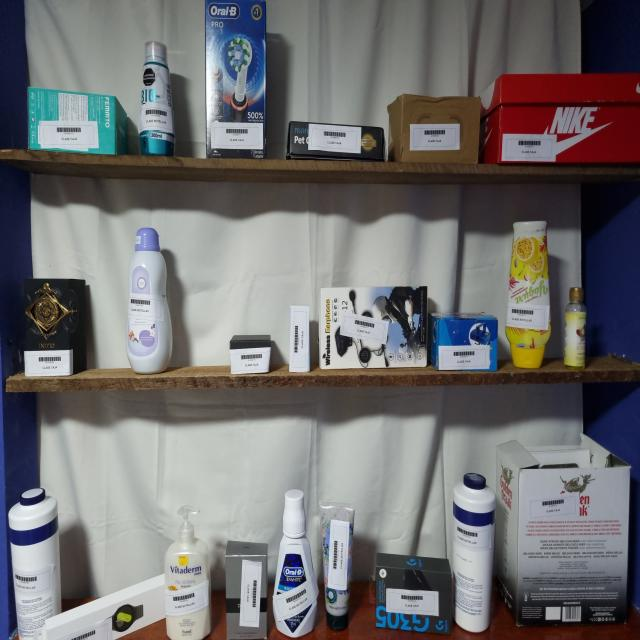botella: (9, 488, 60, 640), (448, 472, 496, 632), (505, 221, 551, 368), (126, 228, 172, 374), (273, 489, 318, 637), (164, 506, 211, 640), (136, 37, 176, 156), (318, 503, 355, 631), (564, 287, 586, 368)
caja: (494, 435, 630, 626), (481, 74, 640, 164), (205, 0, 266, 159), (319, 286, 427, 369), (39, 574, 166, 640), (19, 279, 87, 376), (28, 88, 127, 154), (388, 94, 481, 163), (375, 553, 452, 634), (225, 541, 268, 640), (286, 121, 386, 161), (430, 313, 498, 371), (229, 335, 271, 374), (290, 306, 310, 372)
